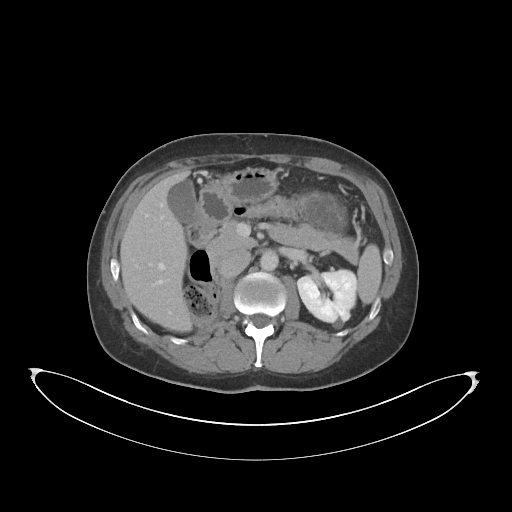Lesion: (332, 316, 346, 329)
